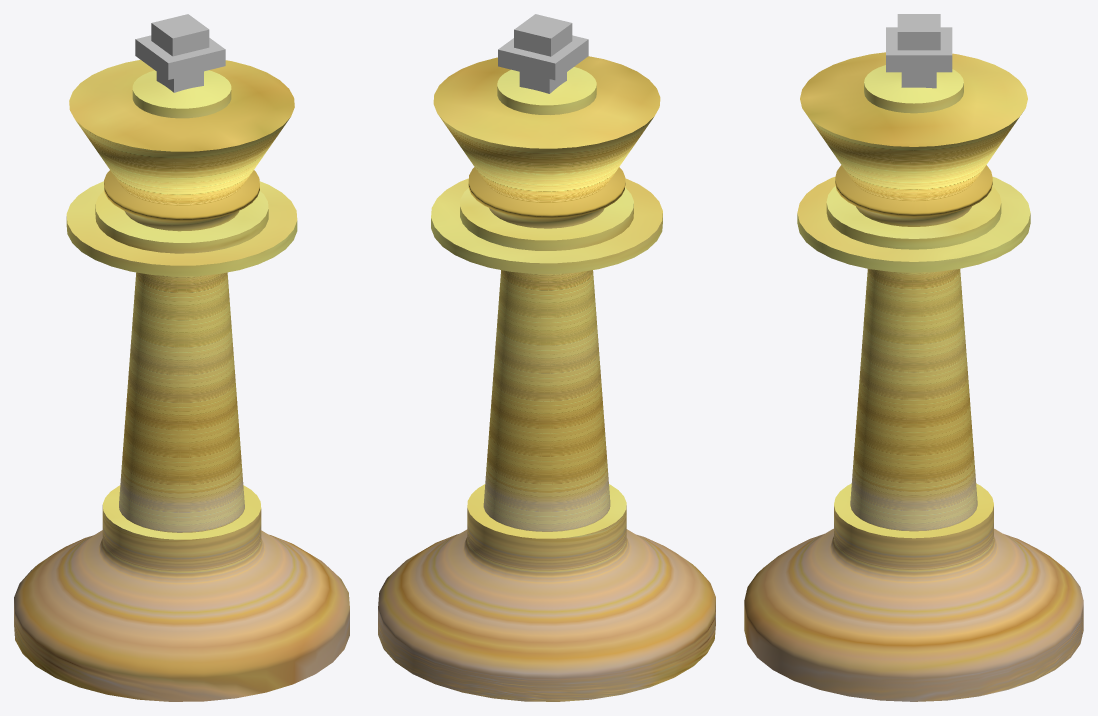
File: wood.fbx
3 renders of one model, left to right at view 1: azimuth 30°, elevation 25°; view 2: azimuth 150°, elevation 25°; view 3: azimuth 270°, elevation 25°, orthographic.
Parts seen in each view (by area): view 1: Cylinder, Cube; view 2: Cylinder, Cube; view 3: Cylinder, Cube.
Part boxes in pixels (x1,y1,x2,y2): Cylinder: (14,60,349,701); Cube: (135,14,225,92); Cylinder: (378,56,715,701); Cube: (498,14,588,93); Cylinder: (744,52,1083,701); Cube: (886,14,952,88).
Size of the model in its own units: 200 by 395 by 200.
